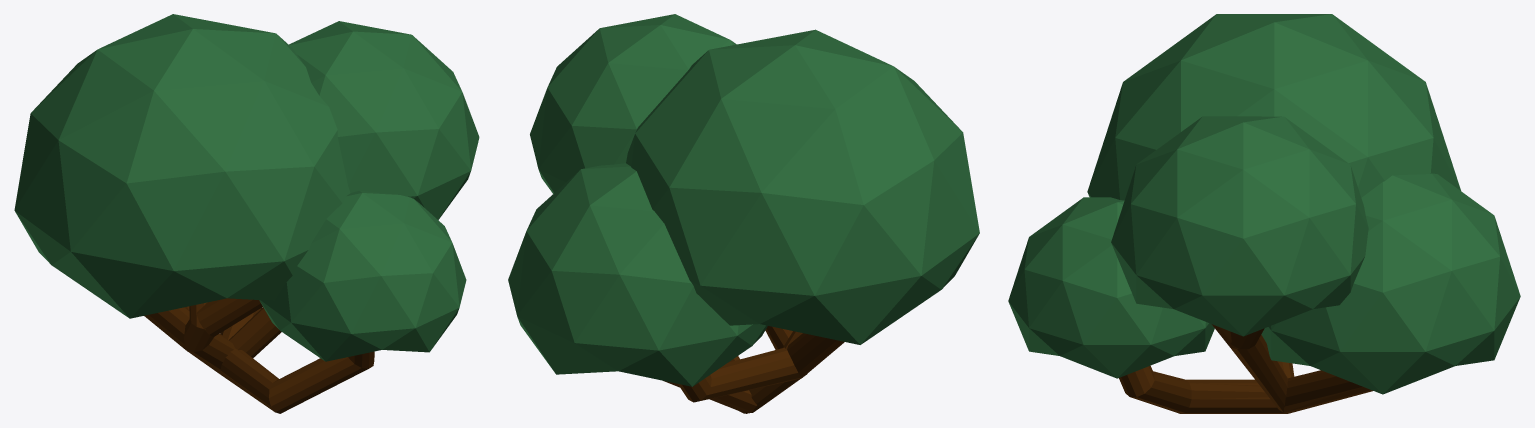
The model's file is bush_variant3.fbx.
3 renders of one model, left to right at view 1: azimuth 30°, elevation 25°; view 2: azimuth 150°, elevation 25°; view 3: azimuth 270°, elevation 25°, orthographic. The views are drawn at different scales.
Visible parts, largest first — view 1: Icosphere.013, Icosphere.010, Icosphere.011, Vert.002; view 2: Icosphere.013, Icosphere.012, Icosphere.011, Vert.002; view 3: Icosphere.011, Icosphere.013, Icosphere.012, Icosphere.010, Vert.002.
Part boxes in pixels (x1,y1,x2,y2): Icosphere.013: (14, 14, 350, 318); Icosphere.010: (259, 190, 466, 361); Icosphere.011: (289, 21, 479, 219); Vert.002: (144, 298, 374, 413); Icosphere.013: (626, 29, 979, 344); Icosphere.012: (508, 163, 767, 386); Icosphere.011: (530, 14, 736, 193); Vert.002: (663, 326, 844, 413); Icosphere.011: (1111, 116, 1368, 336); Icosphere.013: (1087, 14, 1460, 200); Icosphere.012: (1261, 173, 1520, 394); Icosphere.010: (1008, 197, 1214, 378); Vert.002: (1119, 324, 1372, 413).
Size of the model in its own units: 74.46 by 63.76 by 80.28.
